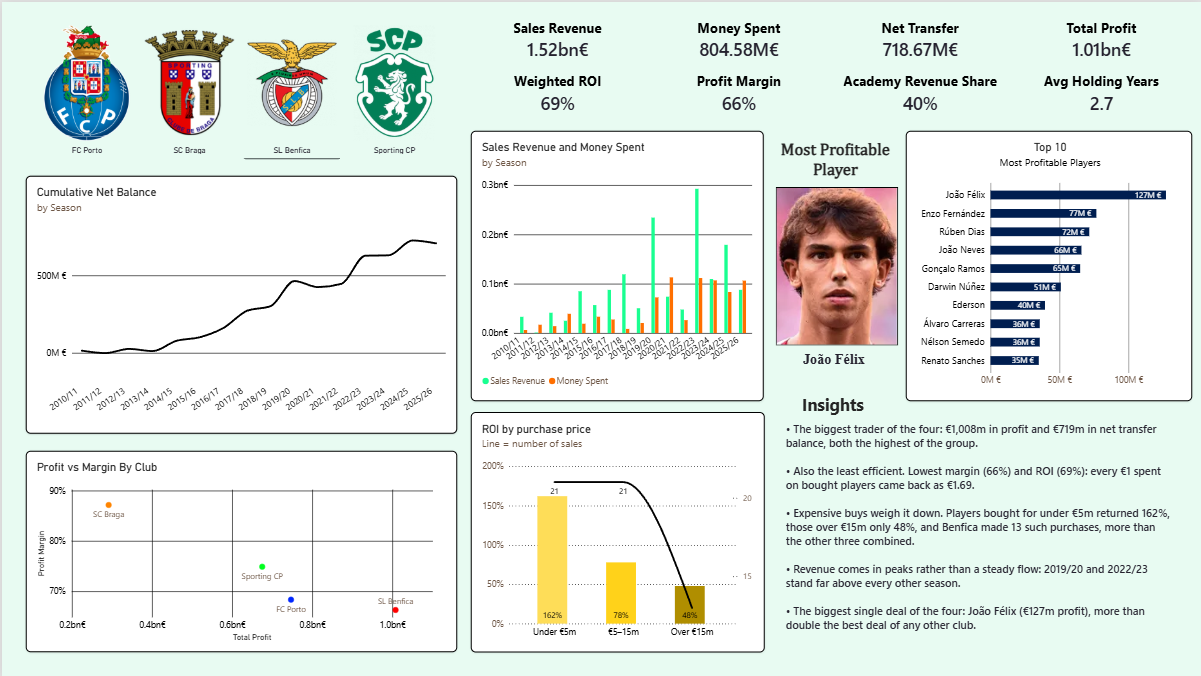

The page's visual inventory and layout, read from the dashboard file:
{"tool":"powerbi","page":{"name":"Clubs","canvas":[1920,1080],"ordinal":1},"visuals":[{"type":"advancedSlicerVisual","title":"Club","fields":{"Values":["clubs.name"]},"box":[37.5,35,690.7,216.3],"z":0},{"type":"clusteredColumnChart","fields":{"Category":["Dates.Season"],"Y":["_Measures.Sales Revenue","_Measures.Money Spent"]},"box":[750,205,468.5,433.2],"z":1000},{"type":"lineChart","fields":{"Category":["Dates.Season"],"Y":["_Measures.Cumulative Net Balance"]},"box":[37.5,277.5,690,412.5],"z":2000},{"type":"cardVisual","fields":{"Data":["_Measures.Sales Revenue","_Measures.Money Spent","_Measures.Net Transfer Balance","_Measures.Total Profit","_Measures.Weighted ROI","_Measures.Profit Margin","_Measures.Academy Revenue Share","_Measures.Avg Holding Years"]},"box":[748.6,22.9,1154.3,165.7],"z":3000},{"type":"scatterChart","title":"Profit vs Margin By Club","fields":{"Category":["clubs.name"],"Series":["clubs.name"],"X":["_Measures.Total Profit"],"Y":["_Measures.Profit Margin"]},"box":[37.5,717.5,690,322.5],"z":4000},{"type":"lineClusteredColumnComboChart","title":"ROI by purchase price","fields":{"Category":["transfers.buy_bracket"],"Y":["_Measures.Weighted ROI"],"Y2":["_Measures.Sales Count"]},"box":[750,655,470,385],"z":5000},{"type":"clusteredBarChart","title":"Top 10","fields":{"Category":["players.player_label"],"Y":["_Measures.Total Profit"]},"box":[1445,205,458.8,432.5],"z":6000},{"type":"image","box":[1238.3,295.8,195.8,253.3],"z":7000},{"type":"textbox","box":[1232.7,222.7,202.7,64.5],"z":8000},{"type":"cardVisual","fields":{"Data":["_Measures.Top Player Name"]},"box":[1230.9,532.7,202.5,80],"z":9000},{"type":"cardVisual","fields":{"Data":["_Measures.Club Comment"]},"box":[1238.3,595,650,485],"z":10000},{"type":"textbox","box":[1280,626.7,568.3,75],"z":11000}]}

Visuals, with their boxes in screenshot pixels (x1, y1, x2, y2), scaled from the page's 1920x1080 canvas onto the 1201x676 screenshot:
"Club" advancedSlicerVisual: 23,22,456,157
clusteredColumnChart - Dates.Season x _Measures.Sales Revenue: 469,128,762,399
lineChart - Dates.Season x _Measures.Cumulative Net Balance: 23,174,455,432
cardVisual - _Measures.Sales Revenue x _Measures.Money Spent: 468,14,1190,118
"Profit vs Margin By Club" scatterChart: 23,449,455,651
"ROI by purchase price" lineClusteredColumnComboChart: 469,410,763,651
"Top 10" clusteredBarChart: 904,128,1191,399
image: 775,185,897,344
textbox: 771,139,898,180
cardVisual - _Measures.Top Player Name: 770,333,897,384
cardVisual - _Measures.Club Comment: 775,372,1181,675
textbox: 801,392,1156,439
